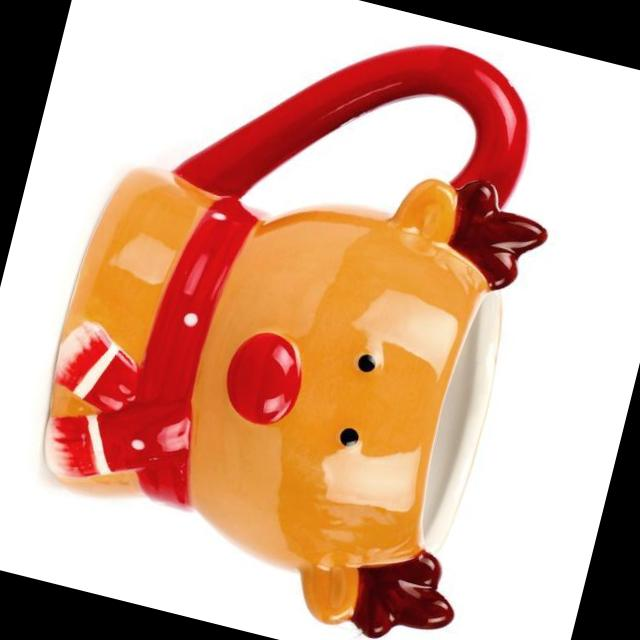Coffee Mug: (6, 0, 591, 640)
